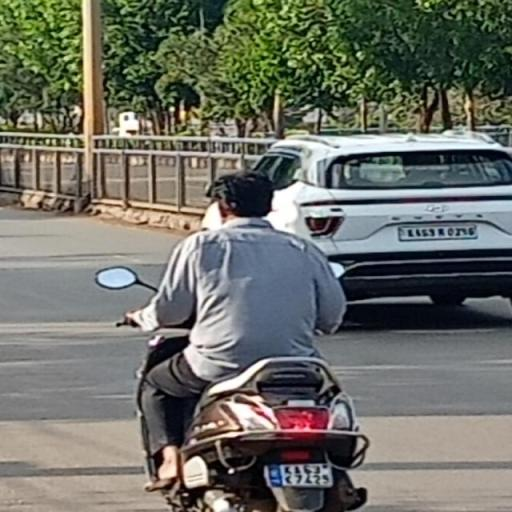bike: (94, 165, 380, 512)
numberplate: (266, 462, 340, 491)
withouthelmet: (215, 174, 274, 216)
